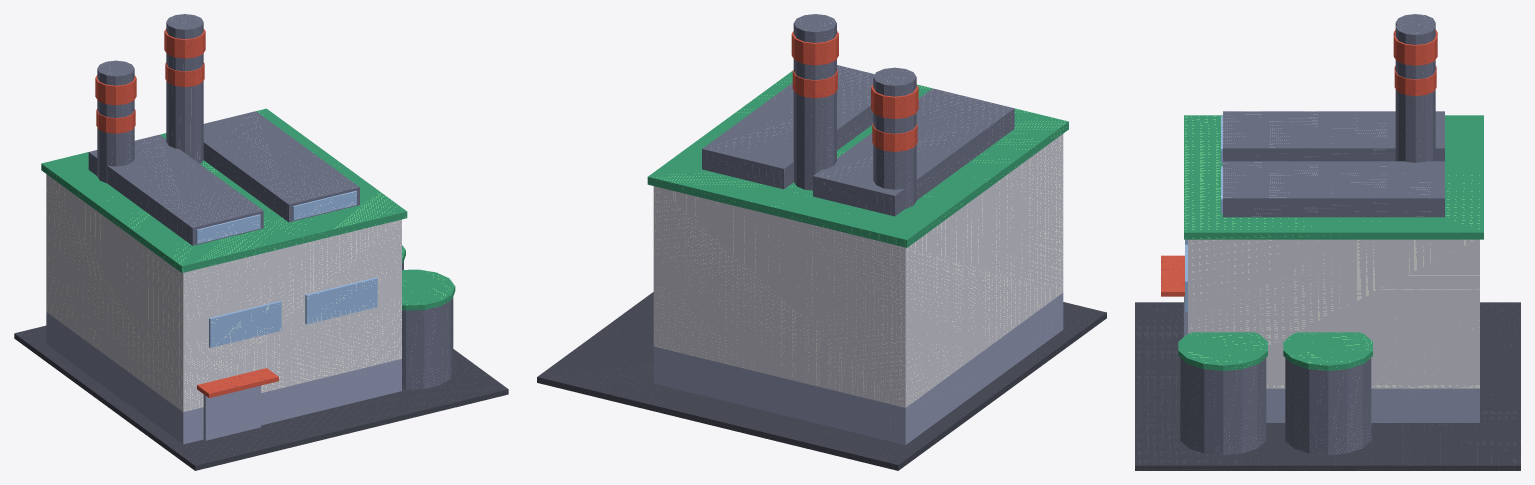
File: ind-2x2-l3.glb
3 renders of one model, left to right at view 1: azimuth 30°, elevation 25°; view 2: azimuth 150°, elevation 25°; view 3: azimuth 270°, elevation 25°, orthographic. The views are drawn at different scales.
Parts seen in each view (by area): view 1: ind-2x2-l3; view 2: ind-2x2-l3; view 3: ind-2x2-l3.
Part boxes in pixels (x1=…): ind-2x2-l3: x1=14, y1=14, x2=508, y2=470; ind-2x2-l3: x1=537, y1=14, x2=1106, y2=470; ind-2x2-l3: x1=1135, y1=14, x2=1520, y2=470.
Bounding box in the file's own units: 3.86 × 3.8 × 3.86.
Materials: 1 (1 with a texture image).
